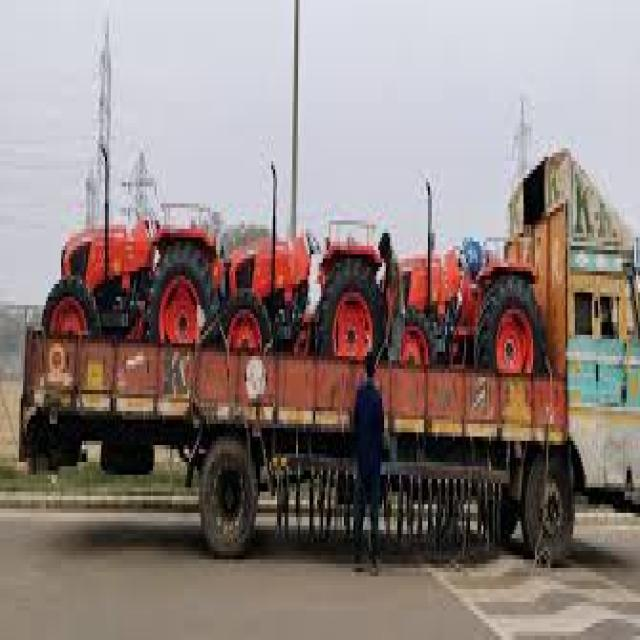uncovered: (21, 143, 640, 567)
